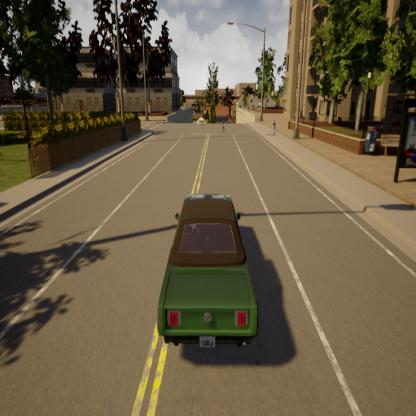Cars: (154, 183, 266, 365)
Pedestrian: (271, 118, 279, 140), (221, 118, 227, 135)
